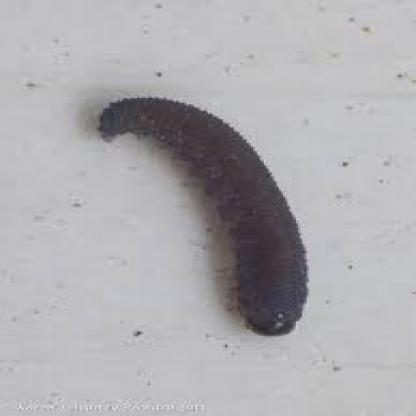sawfly: (95, 86, 317, 340)
